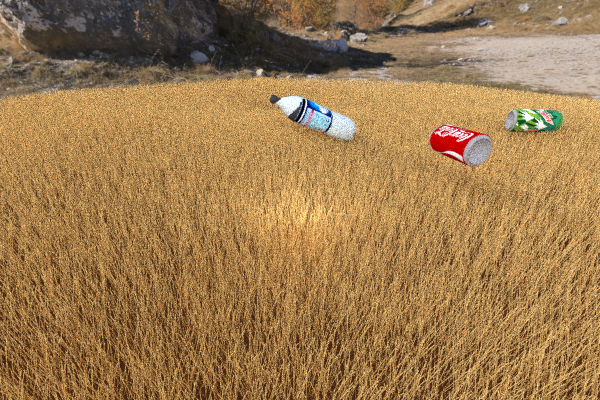bottle: (269, 94, 357, 141)
can: (429, 124, 492, 166), (505, 108, 564, 133)
